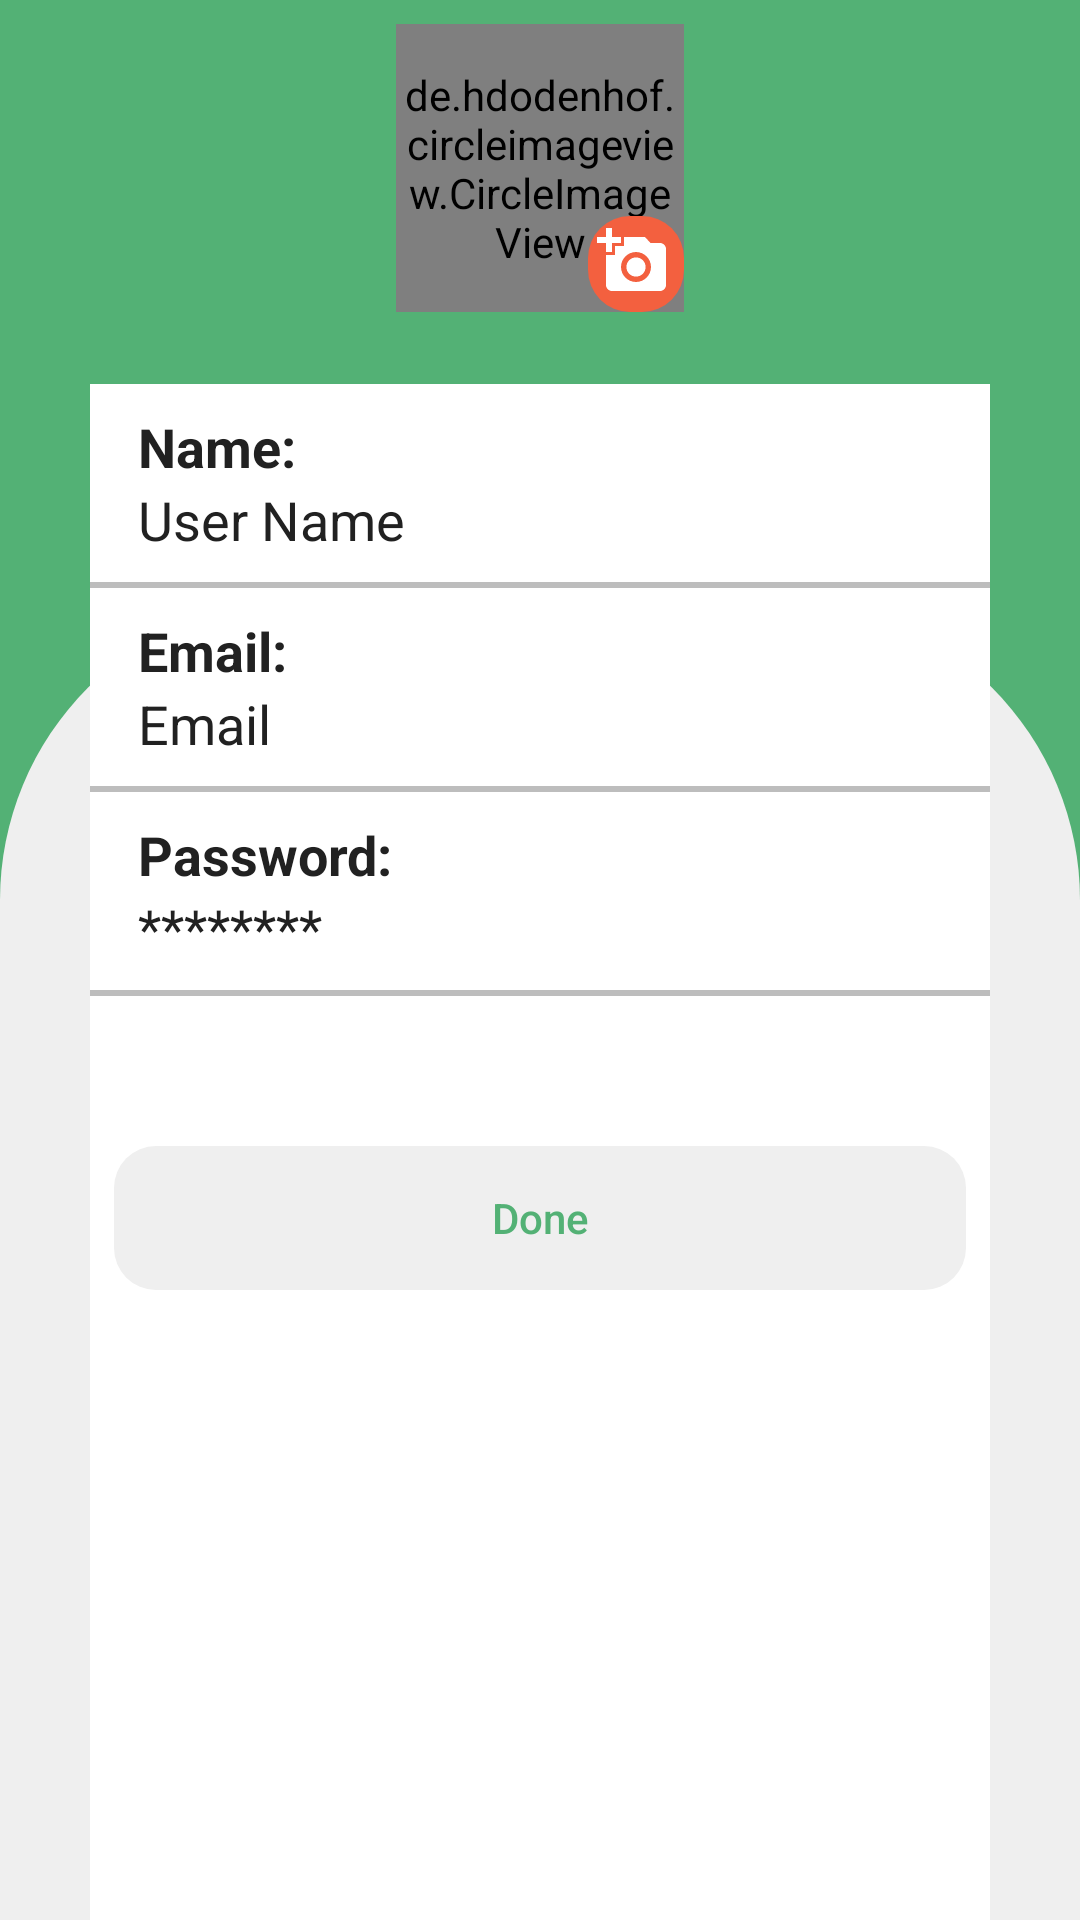

Icons on this 1080w x 1920h Android screen, each with the point to tap as point (x, y):
add photo: point (633, 261)
